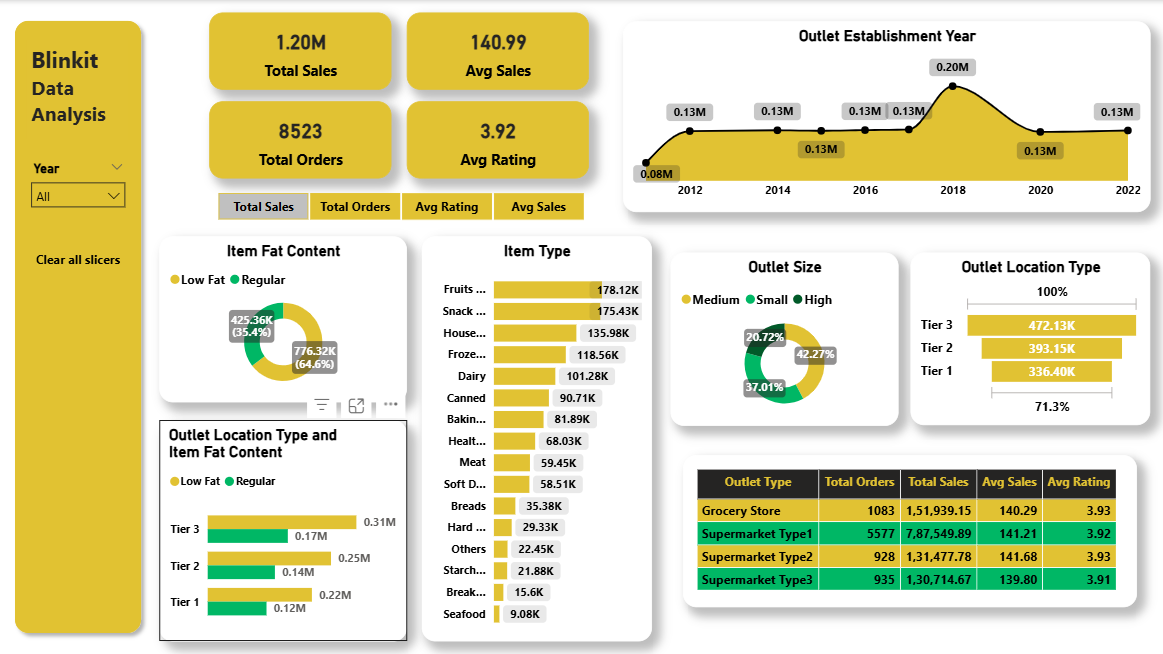

This screenshot's page, from the dashboard's own definition file:
{"tool":"powerbi","page":{"name":"Blinkit Dashboard","canvas":[1280,720],"ordinal":0},"visuals":[{"type":"card","fields":{"Values":["BlinkIT Grocery Data.Total Sales"]},"box":[231.9,13.7,200.3,85.1],"z":0},{"type":"card","fields":{"Values":["BlinkIT Grocery Data.Avg Sales"]},"box":[448.7,13.7,200.3,85.1],"z":1000},{"type":"card","fields":{"Values":["BlinkIT Grocery Data.Total Orders"]},"box":[231.9,111.1,200.3,85.1],"z":2000},{"type":"card","fields":{"Values":["BlinkIT Grocery Data.Avg Rating"]},"box":[448.7,111.1,200.3,85.1],"z":3000},{"type":"donutChart","title":"Item Fat Content","fields":{"Y":["BlinkIT Grocery Data.Total Sales"],"Category":["BlinkIT Grocery Data.Item Fat Content"]},"box":[177,259.3,271.7,182.5],"z":4000},{"type":"slicer","fields":{"Values":["Select.Select"]},"box":[218.2,207.2,448.7,38.4],"z":5000},{"type":"clusteredBarChart","title":"Outlet Location Type and Item Fat Content","fields":{"Y":["BlinkIT Grocery Data.Total Sales"],"Category":["BlinkIT Grocery Data.Outlet Location Type"],"Series":["BlinkIT Grocery Data.Item Fat Content"]},"box":[177,461.1,271.7,242.9],"z":6000},{"type":"clusteredBarChart","title":"Item Type","fields":{"Y":["BlinkIT Grocery Data.Total Sales"],"Category":["BlinkIT Grocery Data.Item Type"]},"box":[465.2,259.3,252.5,444.6],"z":7000},{"type":"shape","box":[9.6,13.7,156.4,690.2],"z":8000},{"type":"textbox","box":[31.6,43.9,111.1,108.4],"z":9000},{"type":"lineChart","title":" Outlet Establishment Year","fields":{"Y":["BlinkIT Grocery Data.Total Sales"],"Category":["BlinkIT Grocery Data.Outlet Establishment Year"]},"box":[686.1,23.3,579.1,209.9],"z":10000},{"type":"donutChart","title":"Outlet Size","fields":{"Y":["BlinkIT Grocery Data.Total Sales"],"Category":["BlinkIT Grocery Data.Outlet Size"]},"box":[738.3,277.2,250,190],"z":11000},{"type":"funnel","title":" Outlet Location Type","fields":{"Category":["BlinkIT Grocery Data.Outlet Location Type"],"Y":["Sum(BlinkIT Grocery Data.Sales)"]},"box":[1001.7,277.2,263.5,189.4],"z":12000},{"type":"pivotTable","fields":{"Rows":["BlinkIT Grocery Data.Outlet Type"],"Values":["BlinkIT Grocery Data.Total Orders","BlinkIT Grocery Data.Total Sales","BlinkIT Grocery Data.Avg Sales","BlinkIT Grocery Data.Avg Rating"]},"box":[752,499.5,498.1,167.4],"z":13000},{"type":"slicer","fields":{"Values":["BlinkIT Grocery Data.Outlet Establishment Year"]},"box":[26.1,171.5,123.5,74.1],"z":13001},{"type":"actionButton","box":[26.1,259.3,123.5,49.4],"z":13002}]}

Visuals, with their boxes in screenshot pixels (x1, y1, x2, y2), scaled from the page's 1280x720 canvas onto the 1163x654 screenshot:
card - BlinkIT Grocery Data.Total Sales: {"left": 211, "top": 12, "right": 393, "bottom": 90}
card - BlinkIT Grocery Data.Avg Sales: {"left": 408, "top": 12, "right": 590, "bottom": 90}
card - BlinkIT Grocery Data.Total Orders: {"left": 211, "top": 101, "right": 393, "bottom": 178}
card - BlinkIT Grocery Data.Avg Rating: {"left": 408, "top": 101, "right": 590, "bottom": 178}
"Item Fat Content" donutChart: {"left": 161, "top": 236, "right": 408, "bottom": 401}
slicer - Select.Select: {"left": 198, "top": 188, "right": 606, "bottom": 223}
"Outlet Location Type and Item Fat Content" clusteredBarChart: {"left": 161, "top": 419, "right": 408, "bottom": 639}
"Item Type" clusteredBarChart: {"left": 423, "top": 236, "right": 652, "bottom": 639}
shape: {"left": 9, "top": 12, "right": 151, "bottom": 639}
textbox: {"left": 29, "top": 40, "right": 130, "bottom": 138}
" Outlet Establishment Year" lineChart: {"left": 623, "top": 21, "right": 1150, "bottom": 212}
"Outlet Size" donutChart: {"left": 671, "top": 252, "right": 898, "bottom": 424}
" Outlet Location Type" funnel: {"left": 910, "top": 252, "right": 1150, "bottom": 424}
pivotTable - BlinkIT Grocery Data.Outlet Type x BlinkIT Grocery Data.Total Orders: {"left": 683, "top": 454, "right": 1136, "bottom": 606}
slicer - BlinkIT Grocery Data.Outlet Establishment Year: {"left": 24, "top": 156, "right": 136, "bottom": 223}
actionButton: {"left": 24, "top": 236, "right": 136, "bottom": 280}
